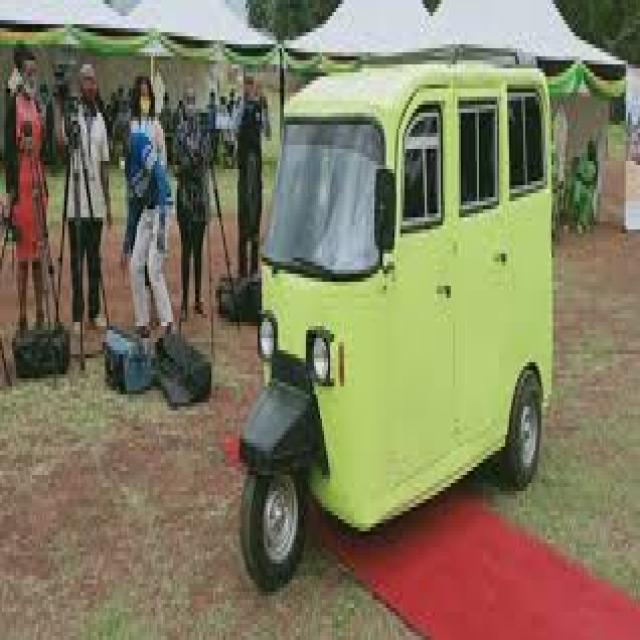tuktuk: (204, 14, 580, 622)
